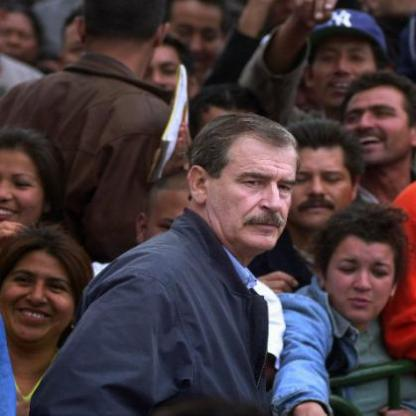face: (208, 124, 308, 256), (1, 233, 85, 343), (326, 217, 399, 325), (280, 127, 356, 230), (308, 18, 381, 112), (339, 78, 416, 165), (1, 132, 50, 238), (166, 1, 226, 81), (131, 43, 193, 114), (1, 11, 41, 69)
